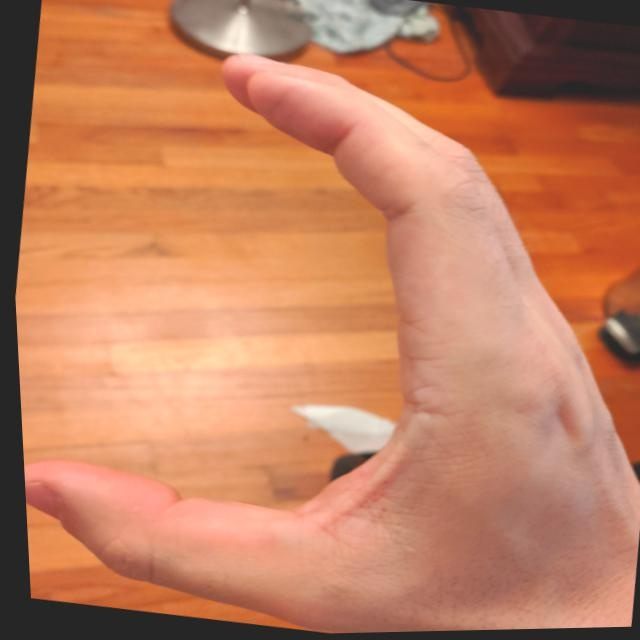C: (0, 10, 640, 639)
